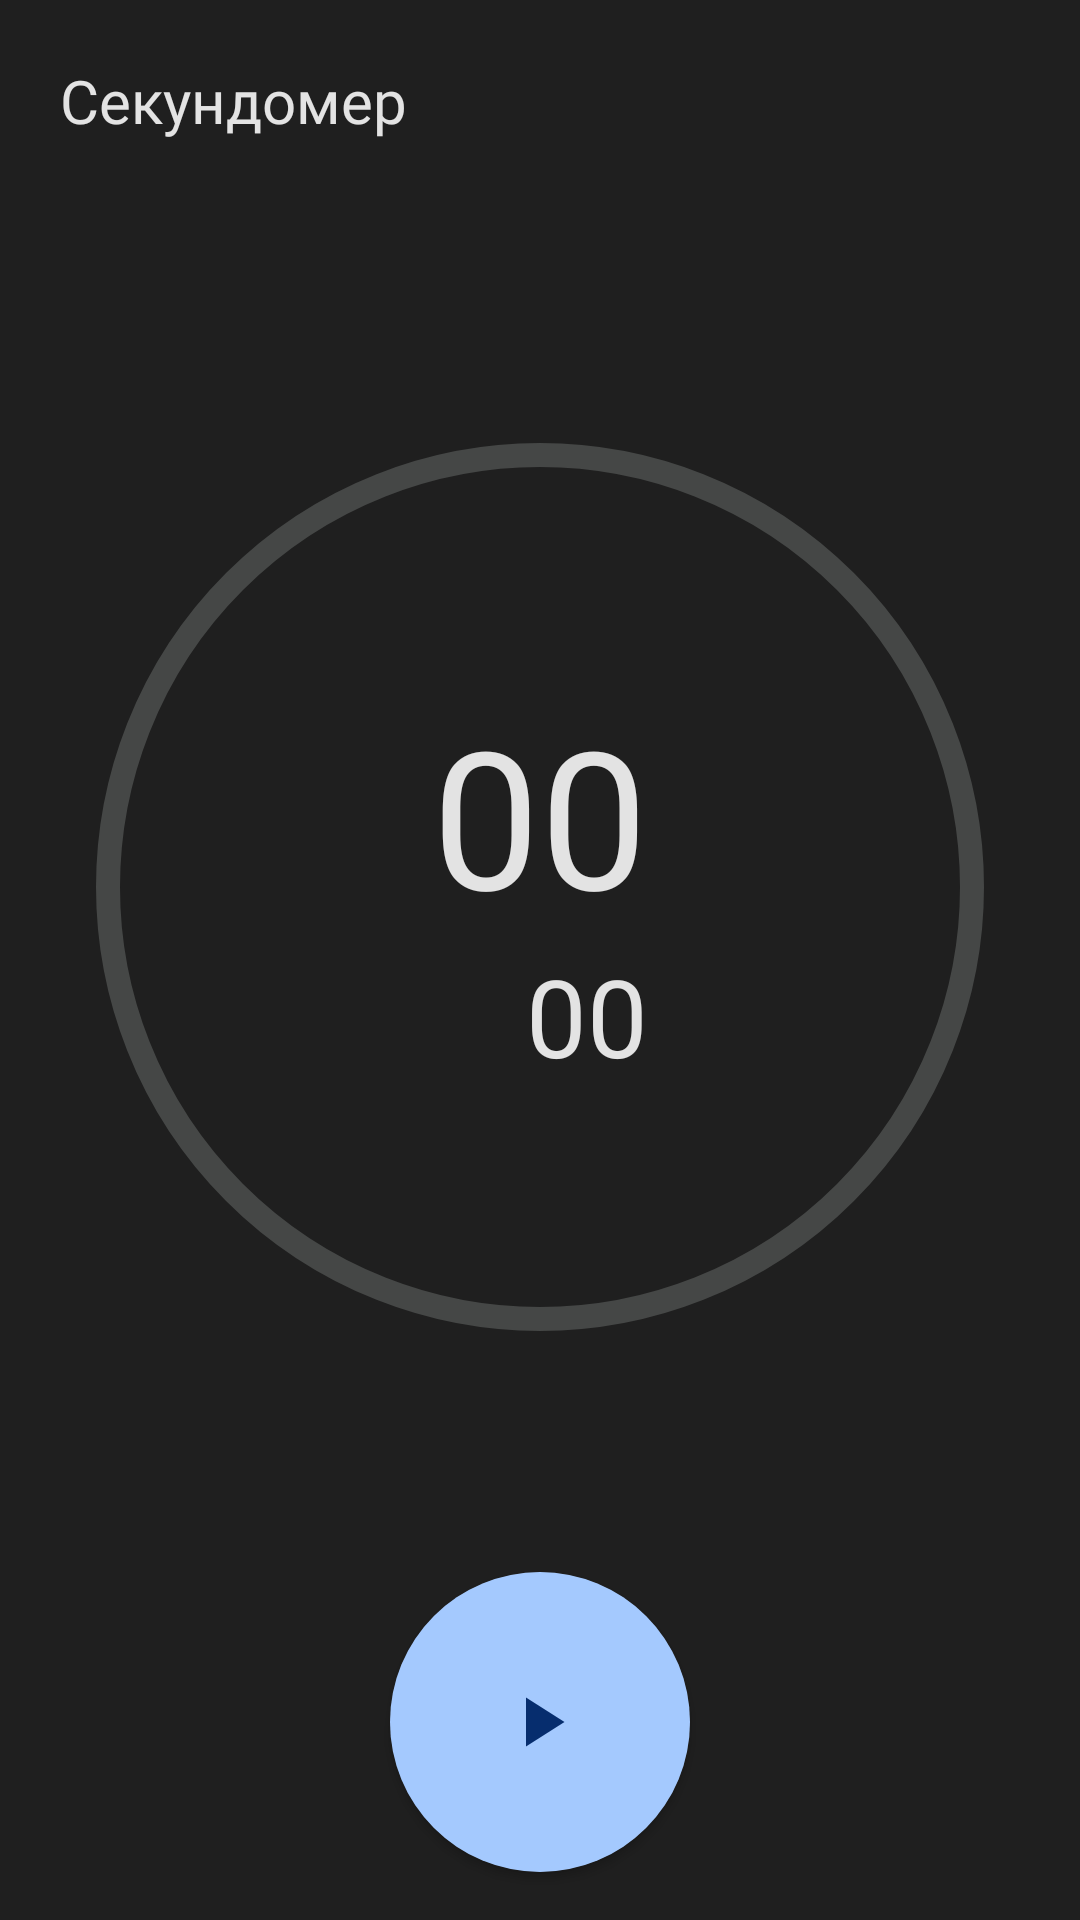

Icons on this 1080 x 1920 Android screen, each with the point to tap as (x=x, y=y):
play: (x=540, y=1722)
